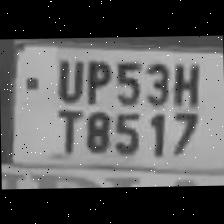1: (143, 108, 168, 158)
3: (140, 58, 170, 106)
5: (110, 56, 143, 107), (109, 108, 142, 158)
7: (164, 104, 201, 158)
8: (82, 106, 112, 156)
H: (168, 56, 201, 112)
P: (81, 55, 112, 106)
T: (49, 105, 82, 156)
U: (49, 55, 84, 103)
